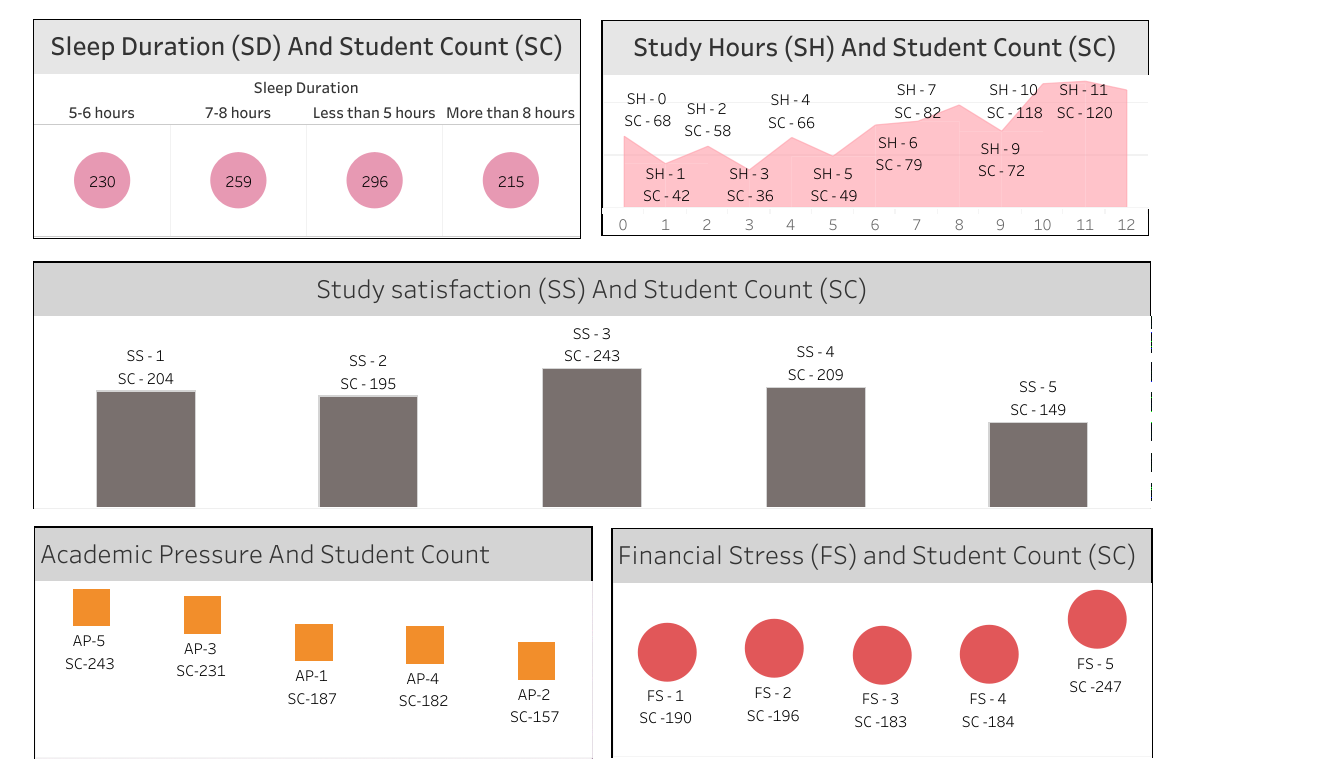

The page's visual inventory and layout, read from the dashboard file:
{"tool":"tableau","page":{"name":"Student Count Analysis","canvas":[1000,1000],"units":"permille","ordinal":0},"visuals":[{"type":"worksheet","title":"SD And SC","mark":"Pie","cols":["Sleep Duration"],"box":[24.2,25,409.4,284.6]},{"type":"worksheet","title":"SH And SC","mark":"Area","rows":["Index_Column"],"cols":["Work/Study Hours"],"box":[448.4,26.2,407.7,280.9]},{"type":"worksheet","title":"SS And SC","mark":"Automatic","rows":["Index_Column"],"cols":["Study Satisfaction"],"box":[24.2,338.3,834.2,322.1]},{"type":"worksheet","title":"AP AND SC","mark":"Square","rows":["Index_Column"],"cols":["Academic Pressure"],"box":[25.4,682.9,416.5,300.9]},{"type":"worksheet","title":"FS And SC","mark":"Circle","rows":["Index_Column"],"cols":["Financial Stress"],"box":[455.5,684.1,403.5,298.4]}]}

Visuals, with their boxes on the dashboard's canvas, which has no fixed pixel size, in thousandths of its width and height (x1, y1, x2, y2). These are canvas units, not pixel positions in the 1340x770 screenshot, which may show the page scaled, cropped or inside an application window:
"SD And SC" worksheet (Pie marks): (x1=24, y1=25, x2=434, y2=310)
"SH And SC" worksheet (Area marks): (x1=448, y1=26, x2=856, y2=307)
"SS And SC" worksheet: (x1=24, y1=338, x2=858, y2=660)
"AP AND SC" worksheet (Square marks): (x1=25, y1=683, x2=442, y2=984)
"FS And SC" worksheet (Circle marks): (x1=456, y1=684, x2=859, y2=982)
